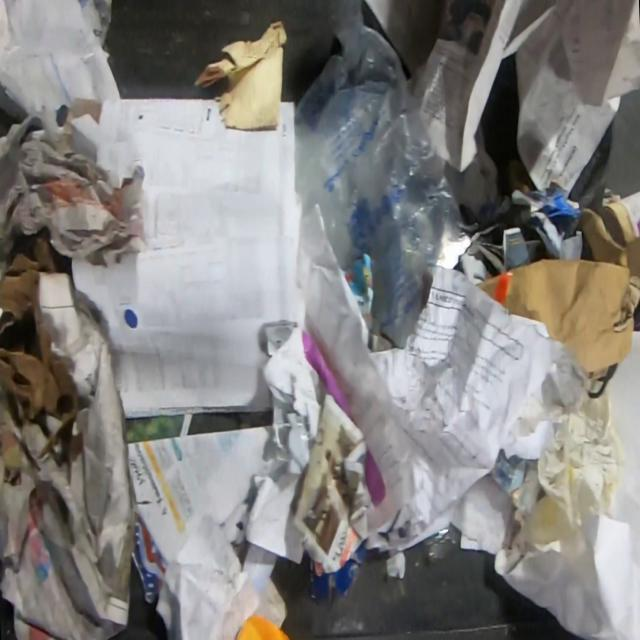cardboard: (472, 201, 640, 374), (0, 223, 84, 470), (509, 180, 584, 260), (307, 540, 370, 605)
soft_plastic: (294, 0, 461, 348)
